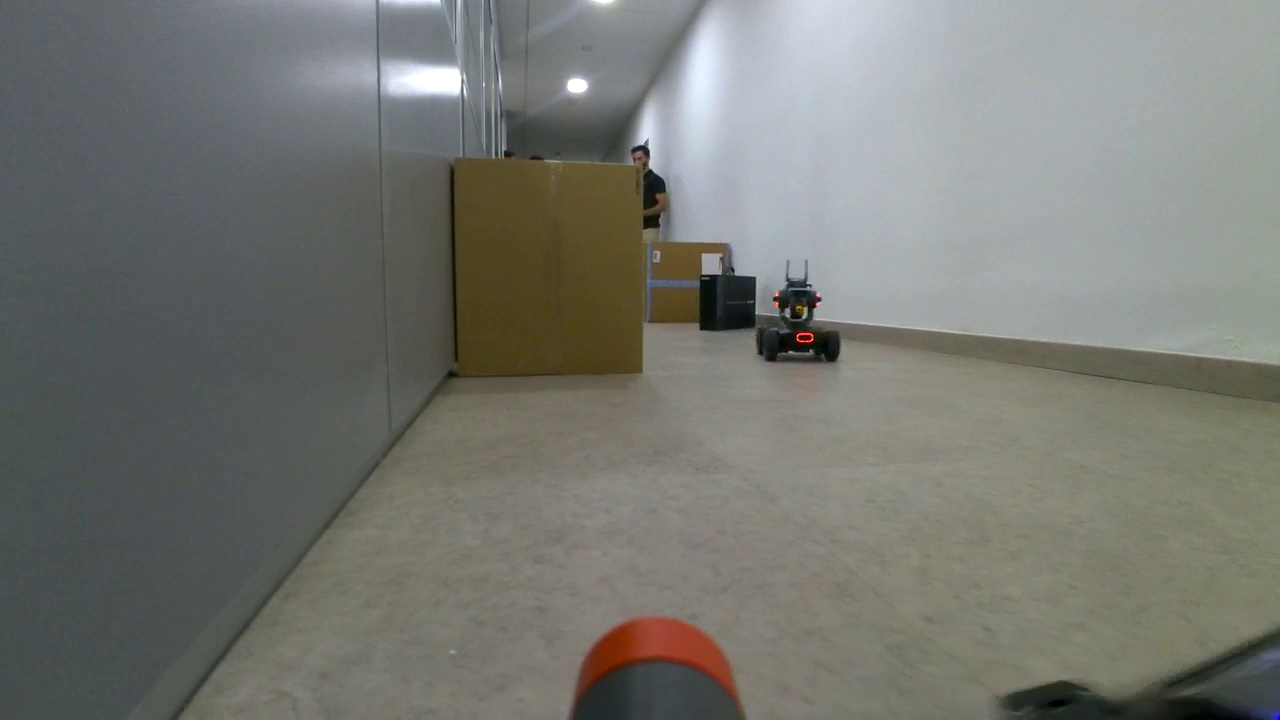robot: (753, 278, 843, 366)
